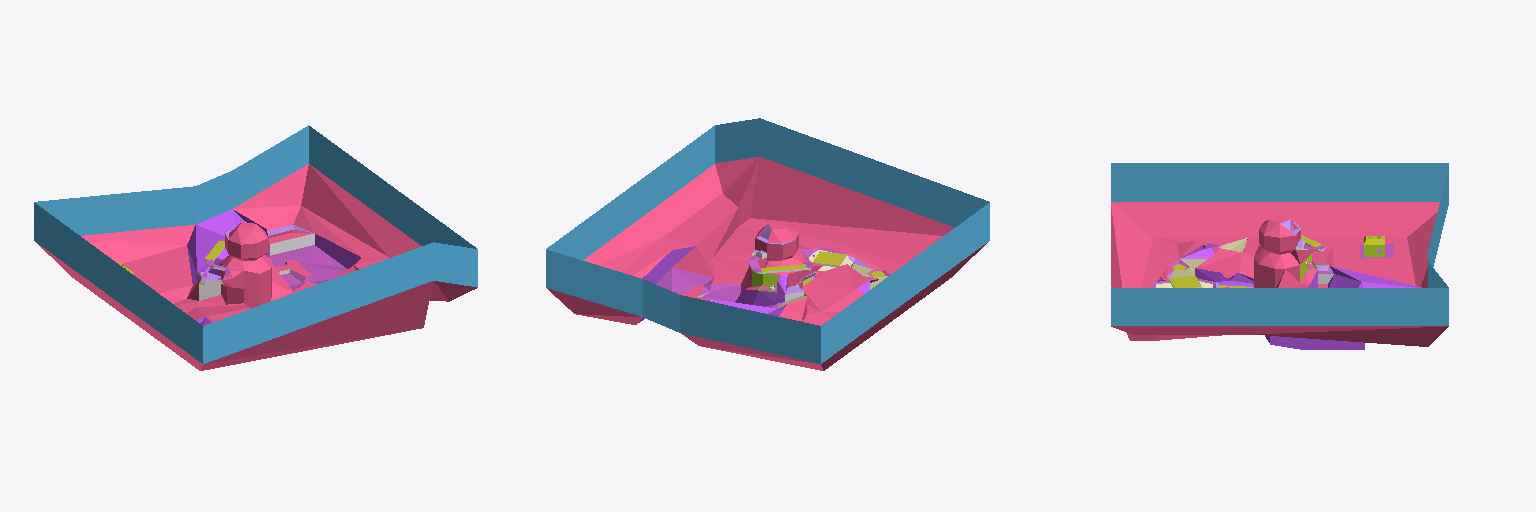
File: Snow Man's land Area 1.obj
The picture shows the model from 3 angles: view 1: azimuth 30°, elevation 25°; view 2: azimuth 150°, elevation 25°; view 3: azimuth 270°, elevation 25°; orthographic projection.
Bounding box in the file's own units: 30718 × 11336 × 32766.